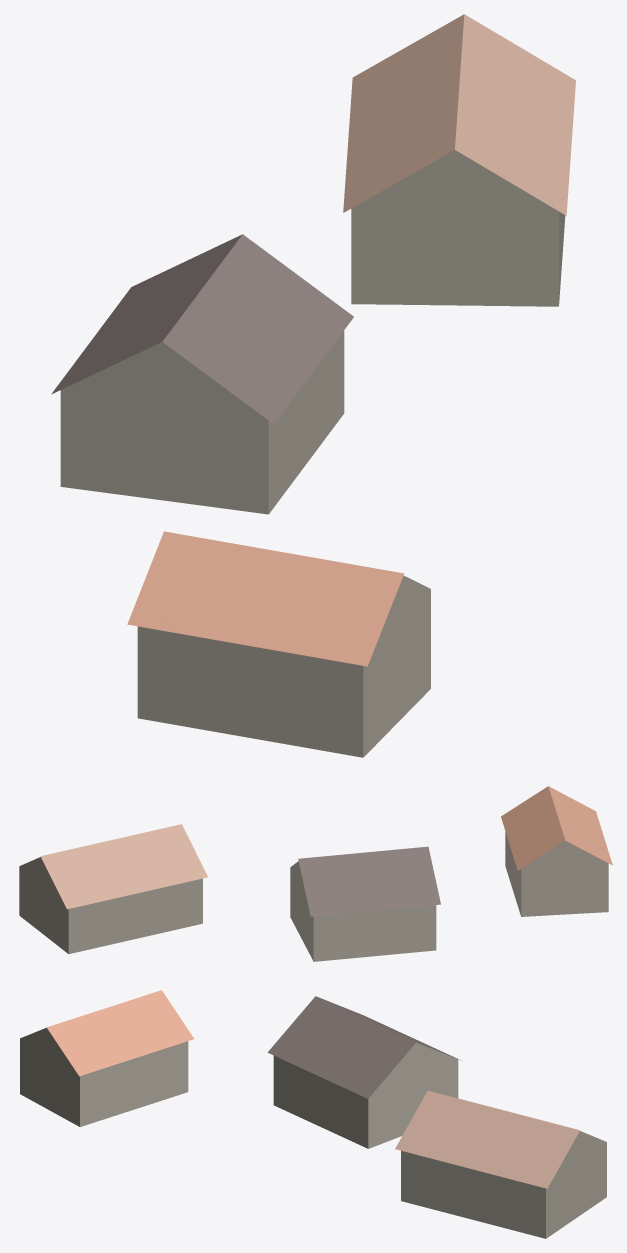
3 views of the same model, one above another, from view 1: azimuth 30°, elevation 25°; view 2: azimuth 150°, elevation 25°; view 3: azimuth 270°, elevation 25° (orthographic). The views are drawn at different scales.
Parts seen in each view (by area): view 1: tuile; view 2: tuile; view 3: tuile.
Boxes of the visible parts, x1,y1,x2,y2 form: tuile: (51, 14, 575, 757); tuile: (19, 786, 612, 961); tuile: (20, 990, 606, 1238).
Bounding box in the file's own units: 42.29 × 11.26 × 47.73.
